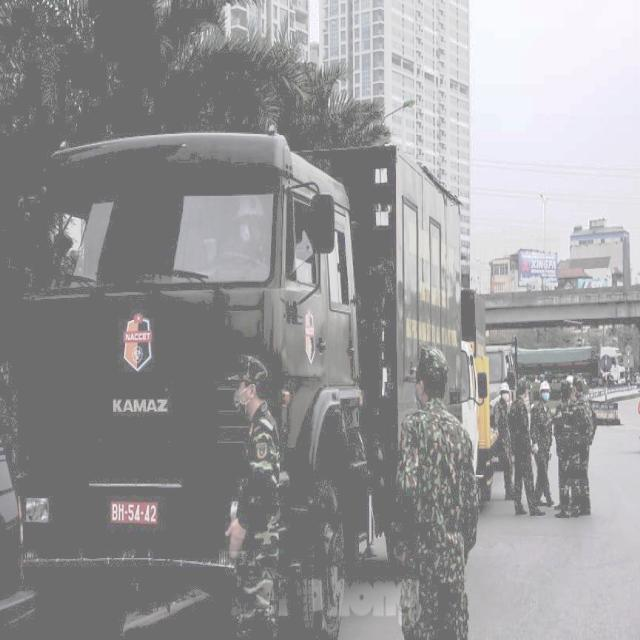license_plate: (110, 498, 158, 525)
